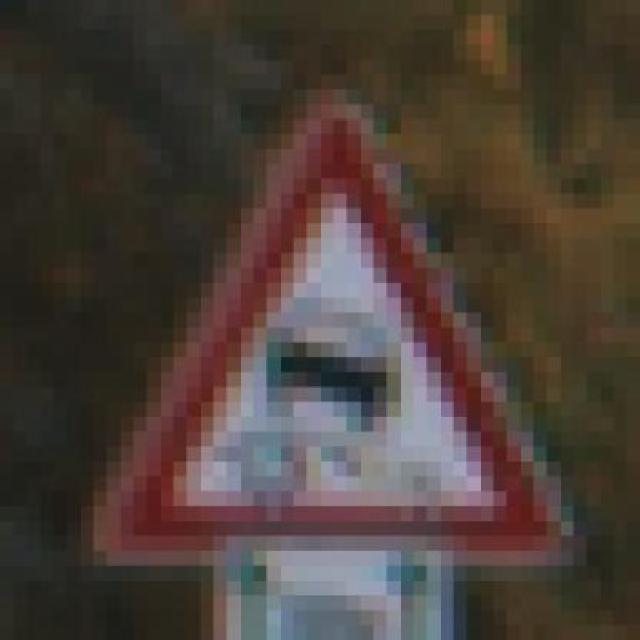Slippery Road Ahead: (79, 74, 587, 580)
